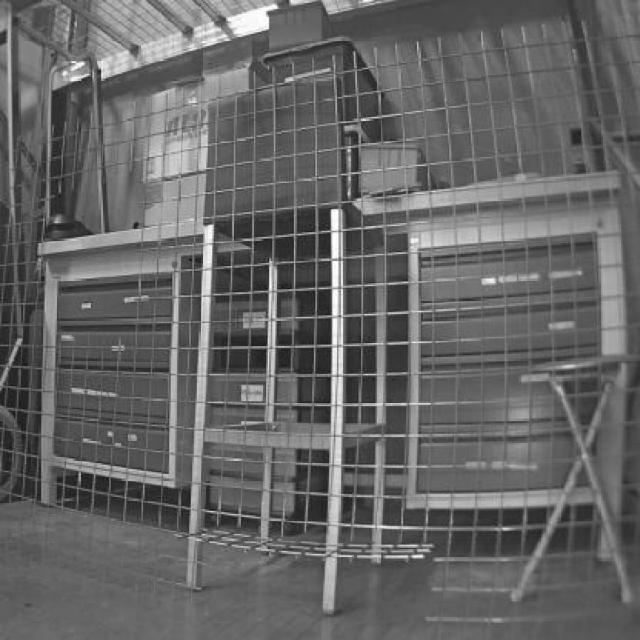fence line: (190, 533, 452, 619), (46, 171, 149, 289)
